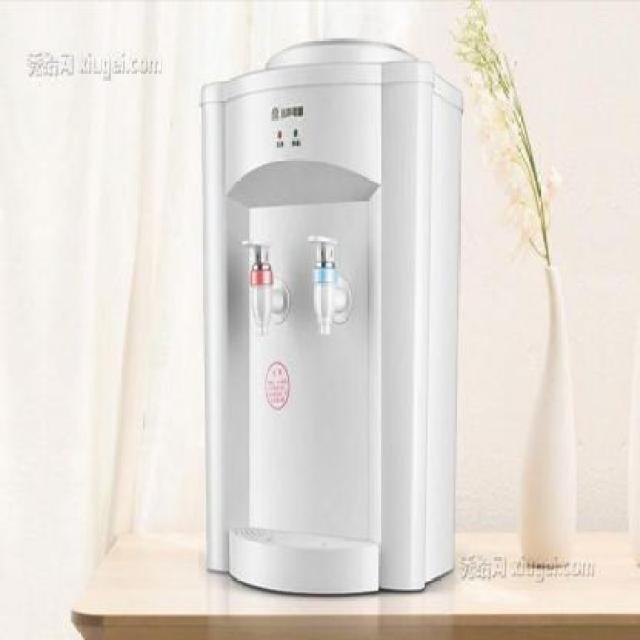cooler: (197, 36, 466, 600)
